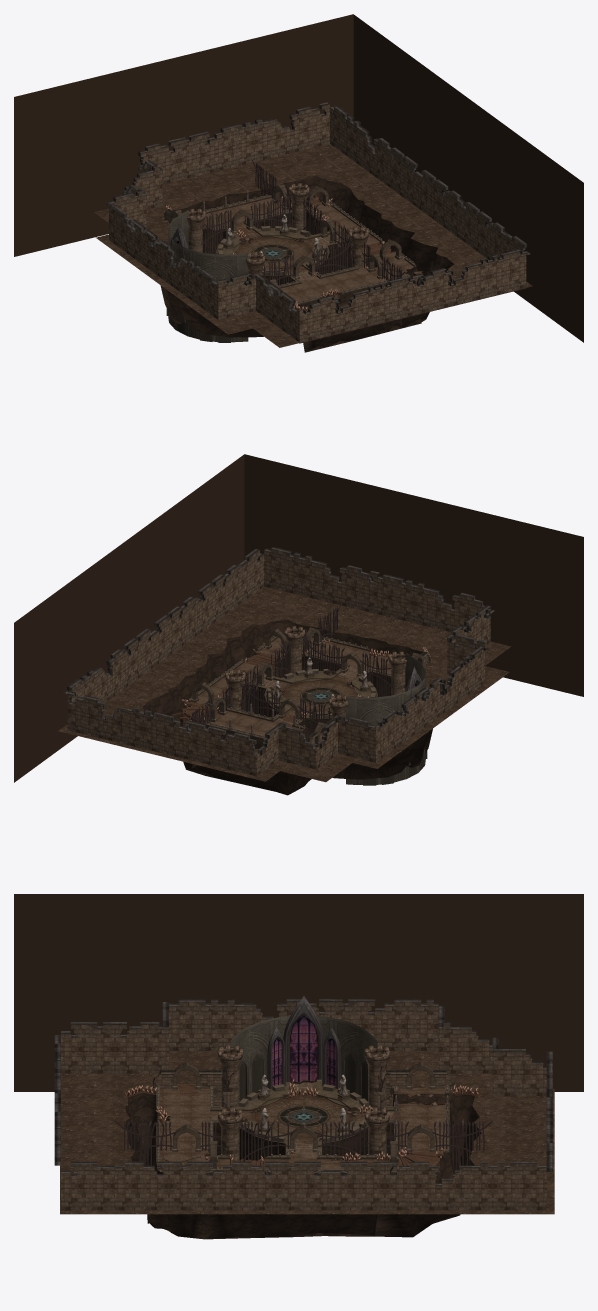
File: Scene_dixiacheng_3&1.FBX
The picture shows the model from 3 angles, top to bottom: view 1: azimuth 30°, elevation 25°; view 2: azimuth 150°, elevation 25°; view 3: azimuth 270°, elevation 25°; orthographic projection. The views are drawn at different scales.
Visible parts, largest first — view 1: Scene_dixiacheng_c1, Scene_dixiacheng_a1, Scene_dixiacheng_b1; view 2: Scene_dixiacheng_c1, Scene_dixiacheng_a1, Scene_dixiacheng_b1; view 3: Scene_dixiacheng_c1, Scene_dixiacheng_a1, Scene_dixiacheng_b1.
Boxes of the visible parts, x1,y1,x2,y2 form: Scene_dixiacheng_c1: (14,14,583,352); Scene_dixiacheng_a1: (105,102,530,343); Scene_dixiacheng_b1: (165,160,405,325); Scene_dixiacheng_c1: (14,454,583,795); Scene_dixiacheng_a1: (63,547,494,785); Scene_dixiacheng_b1: (171,603,430,768); Scene_dixiacheng_c1: (14,894,583,1239); Scene_dixiacheng_a1: (54,999,552,1210); Scene_dixiacheng_b1: (114,996,492,1183).
Bounding box in the file's own units: 7405 × 3377 × 8708.
